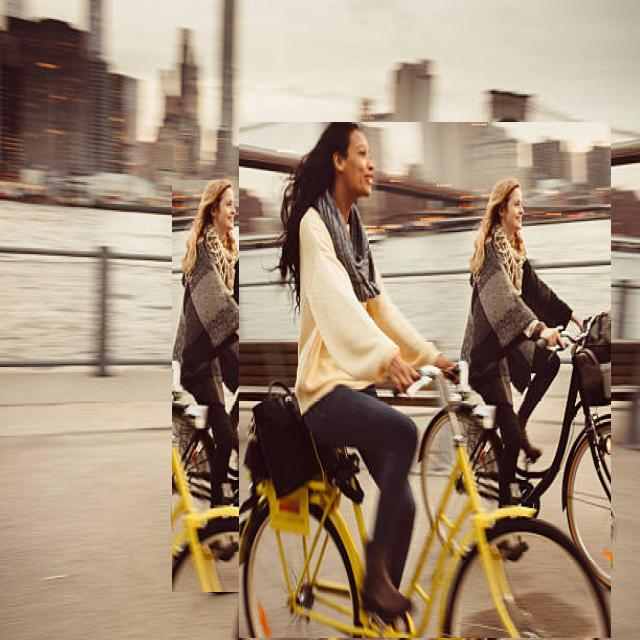bicycle: (239, 122, 611, 638), (172, 180, 390, 592)
